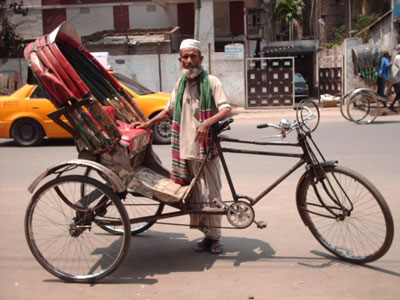Rickshaw: (25, 20, 381, 282)
